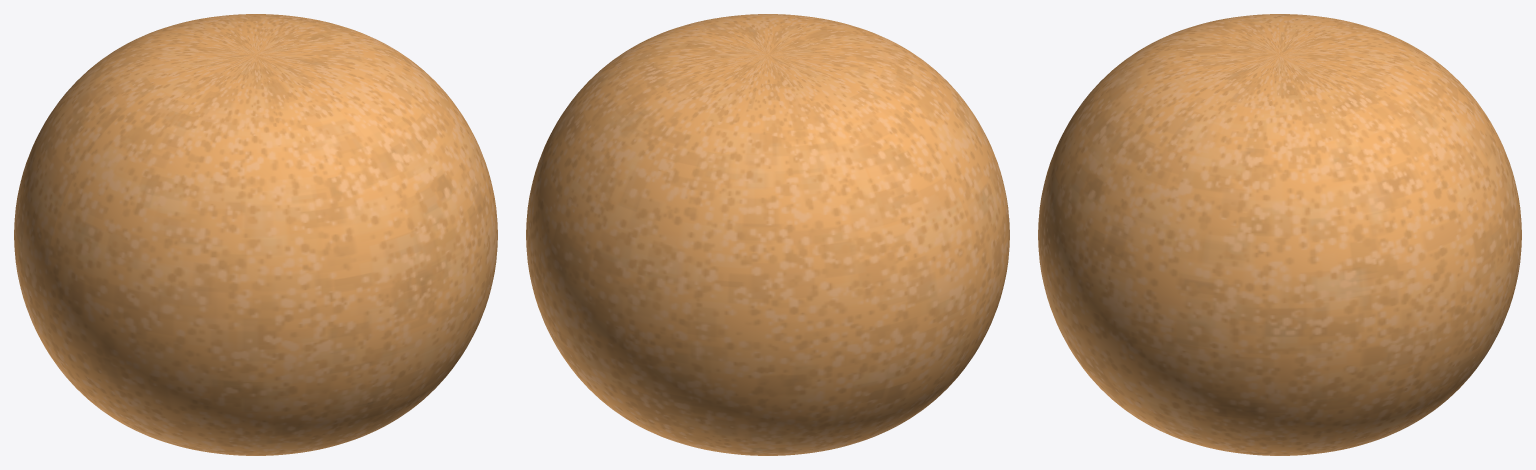
The model's file is grapefruit.glb.
3 renders of one model, left to right at view 1: azimuth 30°, elevation 25°; view 2: azimuth 150°, elevation 25°; view 3: azimuth 270°, elevation 25°, orthographic.
Size of the model in its own units: 0.17 by 0.1394 by 0.17.
1 material, 1 textured.
